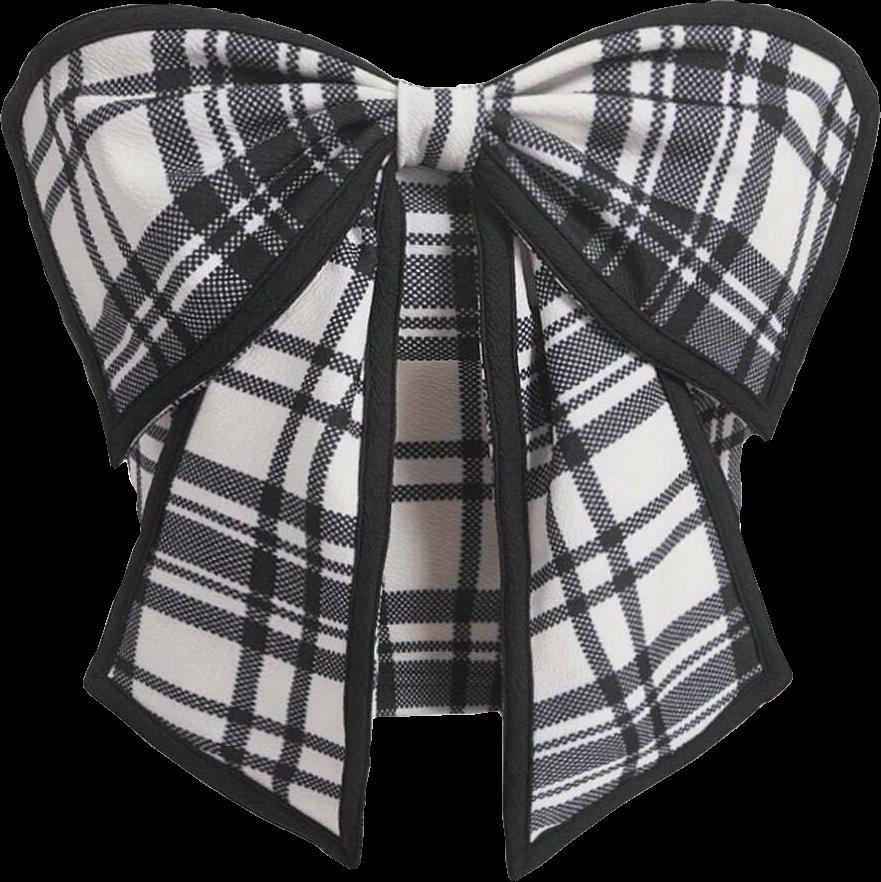Bodice: (1, 1, 879, 881)
Hemline: (81, 677, 792, 881)
Neckline: (106, 161, 765, 467), (0, 0, 880, 123)
